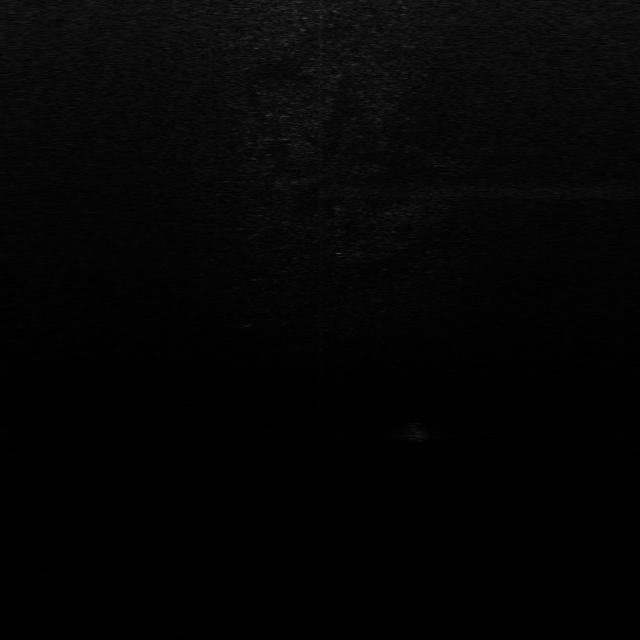ball: (402, 422, 431, 442)
circle cage: (232, 310, 259, 329)
